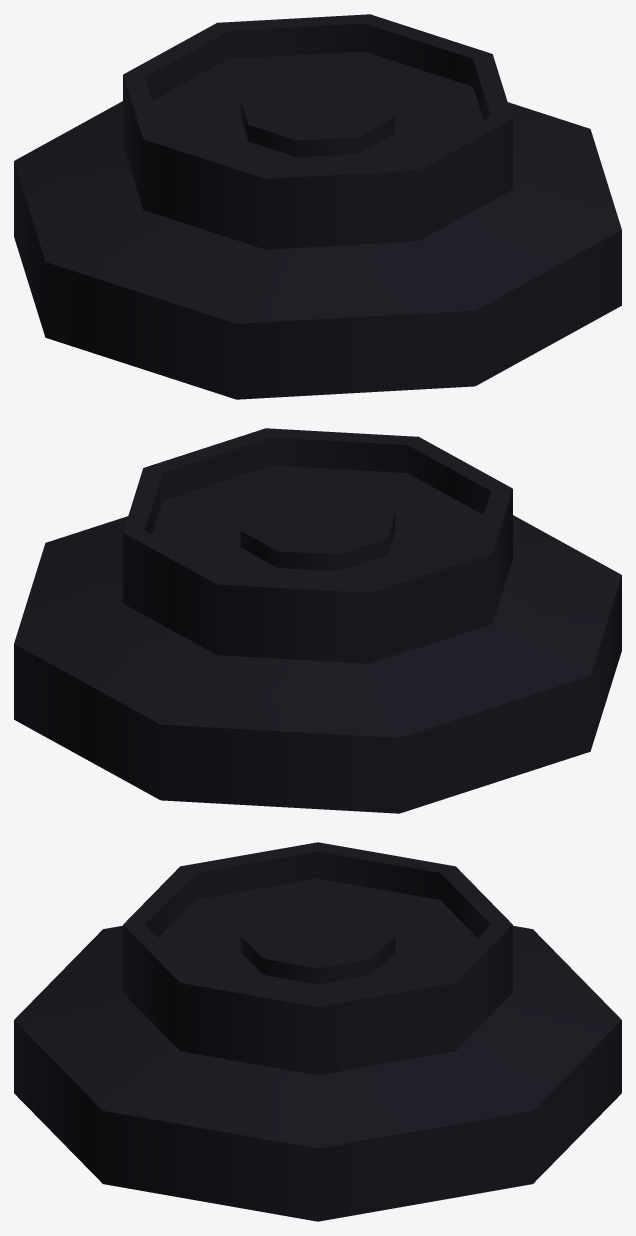
The model's file is magic_ball_base.obj.
3 views of the same model, one above another, from view 1: azimuth 30°, elevation 25°; view 2: azimuth 150°, elevation 25°; view 3: azimuth 270°, elevation 25° (orthographic). The views are drawn at different scales.
Visible parts, largest first — view 1: magic_ball_base_Cylinder.005; view 2: magic_ball_base_Cylinder.005; view 3: magic_ball_base_Cylinder.005.
Boxes of the visible parts, x1,y1,x2,y2 form: magic_ball_base_Cylinder.005: (14,14,621,399); magic_ball_base_Cylinder.005: (14,428,621,813); magic_ball_base_Cylinder.005: (14,842,621,1221).
Bounding box in the file's own units: 0.1999 × 0.0612 × 0.1999.
1 material, 1 textured.
